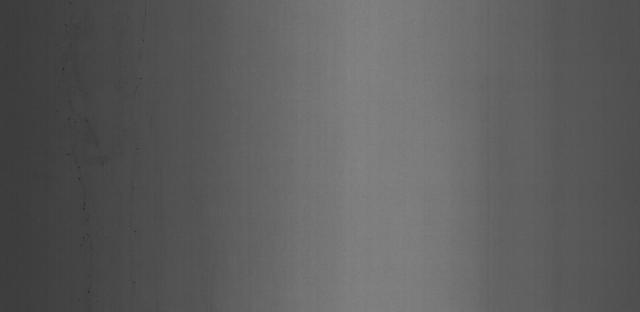inclusion: (59, 60, 99, 132), (61, 148, 97, 191)
